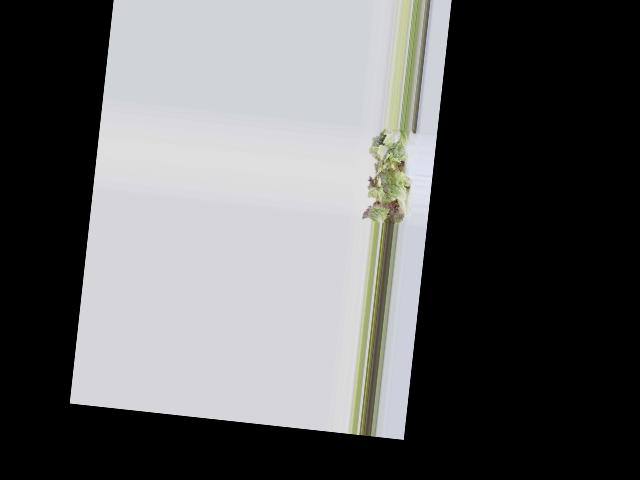lettuce: (365, 132, 409, 221)
